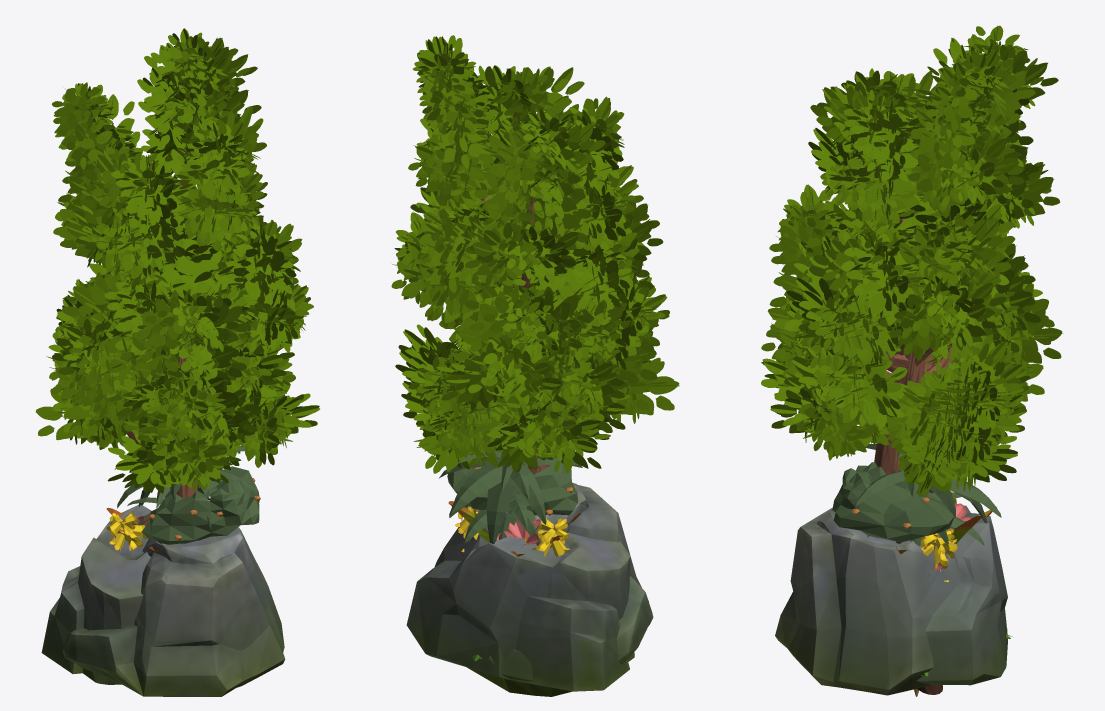
The model's file is nature.glb.
The picture shows the model from 3 angles, left to right: view 1: azimuth 30°, elevation 25°; view 2: azimuth 150°, elevation 25°; view 3: azimuth 270°, elevation 25°; orthographic projection. The views are drawn at different scales.
Parts seen in each view (by area): view 1: CommonTree_3, CommonTree_1, Rock_Medium_1, Rock_Medium_2, Orange_4, Flower_4_Group, PalmTree_4; view 2: CommonTree_3, CommonTree_1, Rock_Medium_2, Rock_Medium_1, PalmTree_4, Orange_4, PalmTree_3, Flower_4_Group; view 3: CommonTree_3, CommonTree_1, Rock_Medium_1, Rock_Medium_2, Orange_4, PalmTree_4, Flower_4_Group.
Boxes of the visible parts, left/top/right/bottom form: CommonTree_3: left=52, top=28, right=313, bottom=498; CommonTree_1: left=35, top=182, right=319, bottom=493; Rock_Medium_1: left=62, top=527, right=285, bottom=696; Rock_Medium_2: left=41, top=505, right=151, bottom=684; Orange_4: left=141, top=466, right=260, bottom=544; Flower_4_Group: left=107, top=511, right=147, bottom=551; PalmTree_4: left=114, top=446, right=258, bottom=529; CommonTree_3: left=395, top=35, right=663, bottom=472; CommonTree_1: left=391, top=188, right=679, bottom=473; Rock_Medium_2: left=406, top=533, right=634, bottom=691; Rock_Medium_1: left=434, top=483, right=653, bottom=696; PalmTree_4: left=439, top=450, right=582, bottom=544; Orange_4: left=447, top=464, right=577, bottom=515; PalmTree_3: left=464, top=500, right=540, bottom=545; Flower_4_Group: left=455, top=506, right=570, bottom=557; CommonTree_3: left=766, top=25, right=1059, bottom=694; CommonTree_1: left=761, top=166, right=1063, bottom=693; Rock_Medium_1: left=775, top=508, right=1007, bottom=695; Rock_Medium_2: left=917, top=505, right=1007, bottom=685; Orange_4: left=832, top=462, right=954, bottom=543; PalmTree_4: left=854, top=444, right=1001, bottom=541; Flower_4_Group: left=920, top=491, right=957, bottom=582.
Size of the model in its own units: 4.31 by 9.79 by 4.58.
Materials: 7 (6 with a texture image).
